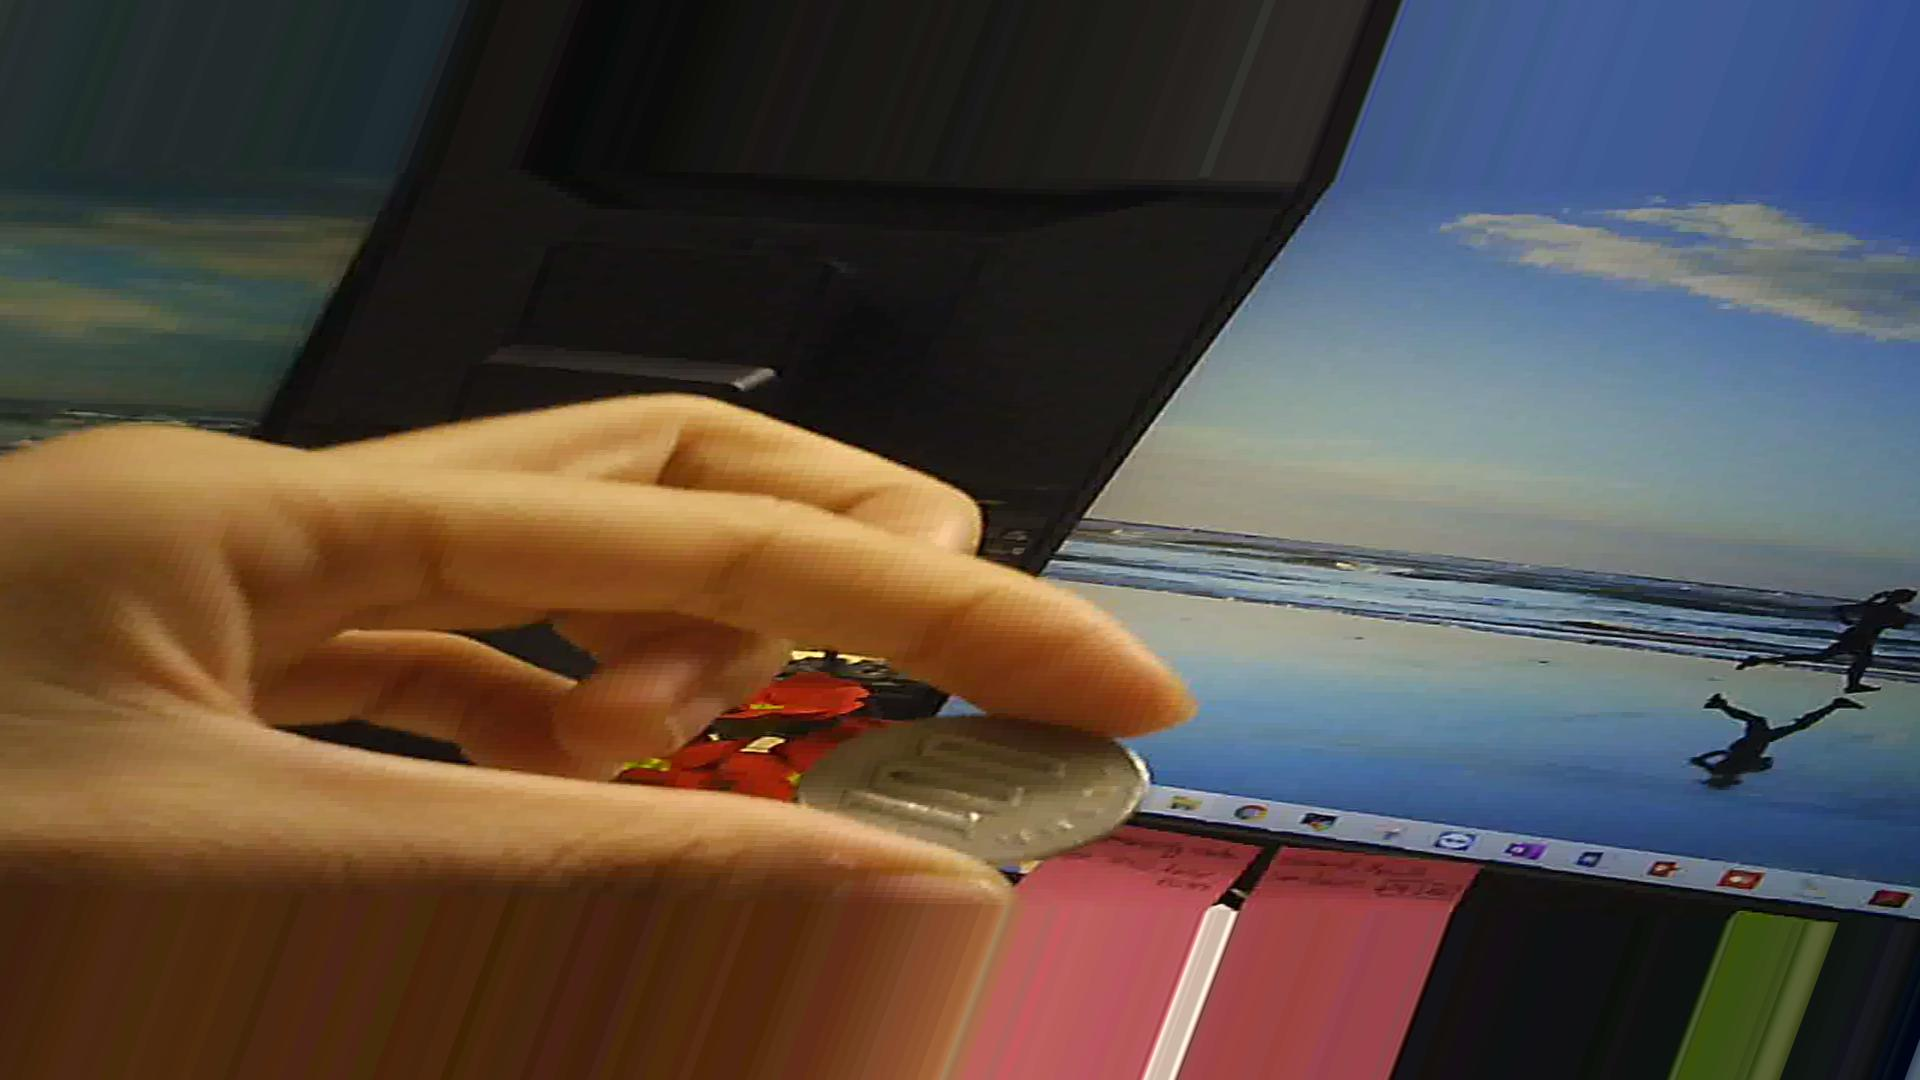100 Yen: (800, 711, 1150, 862)
